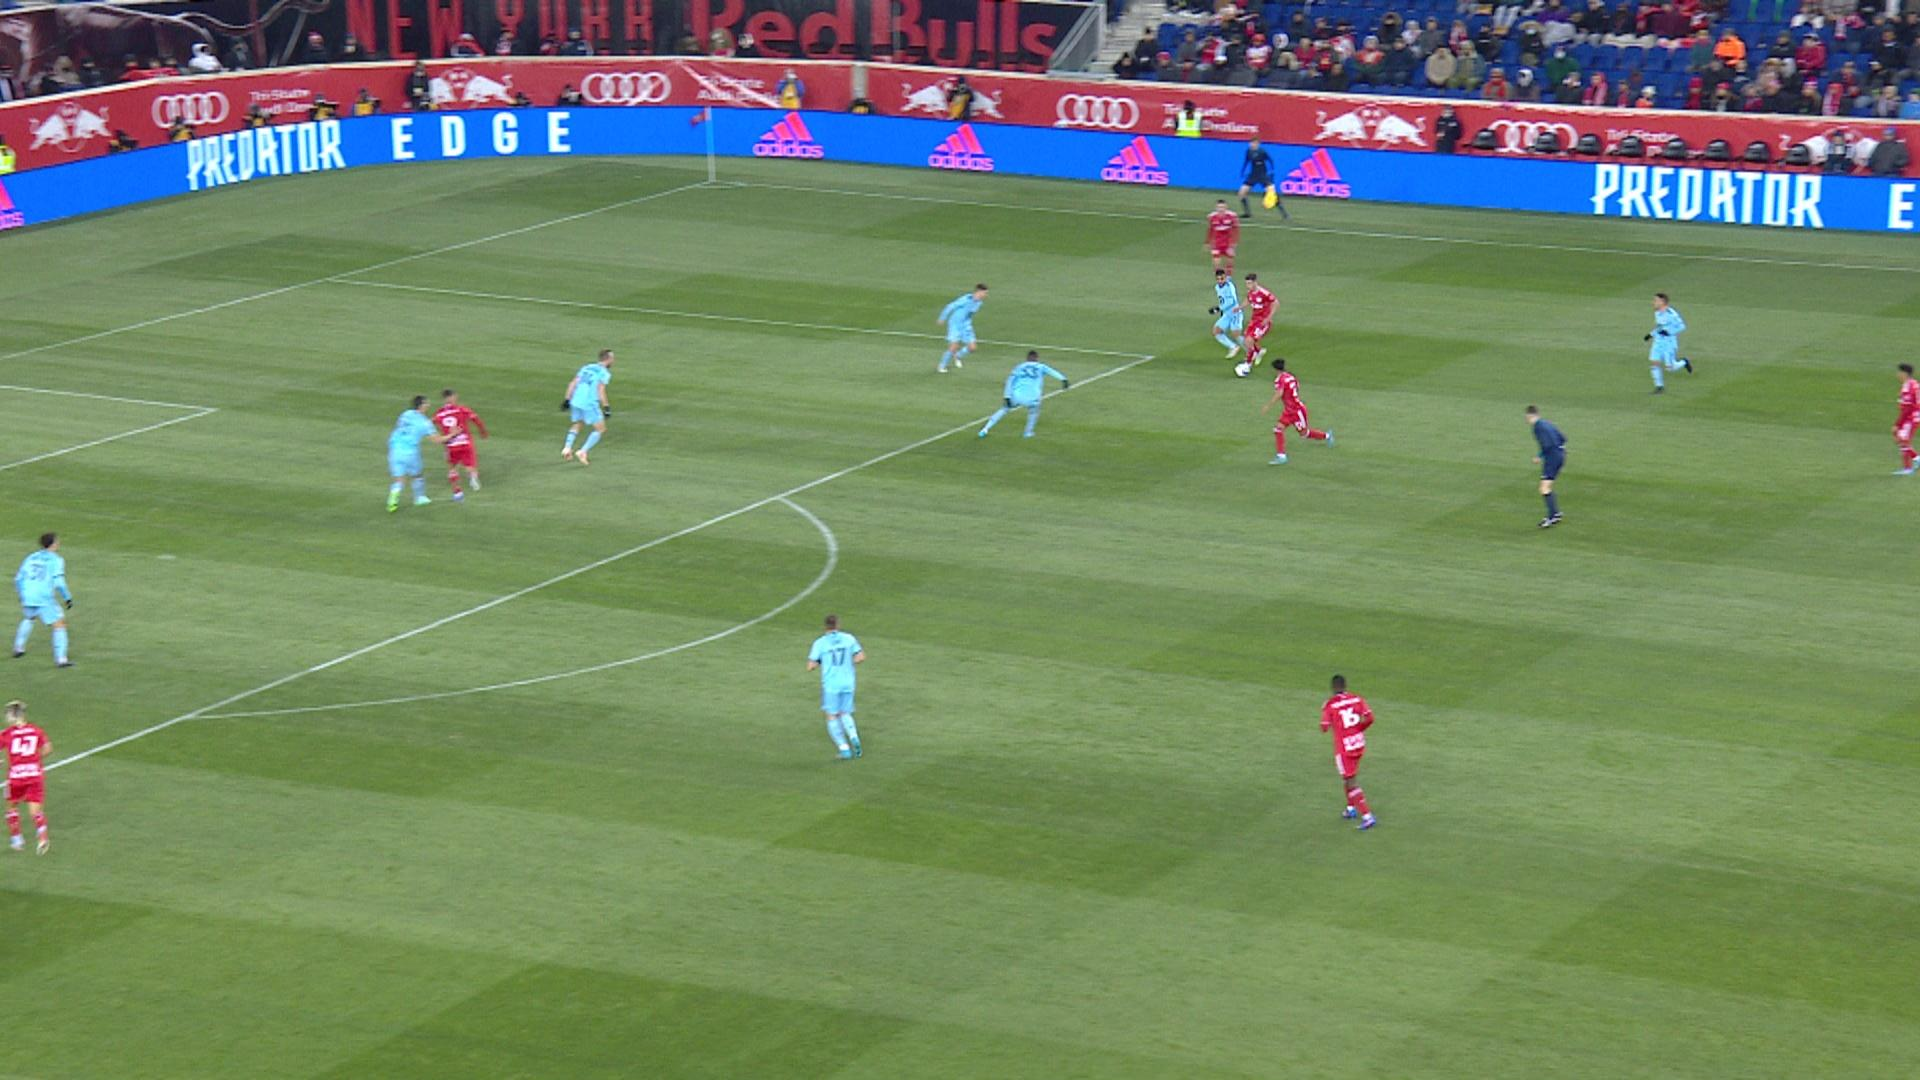football: (1233, 362, 1250, 379)
